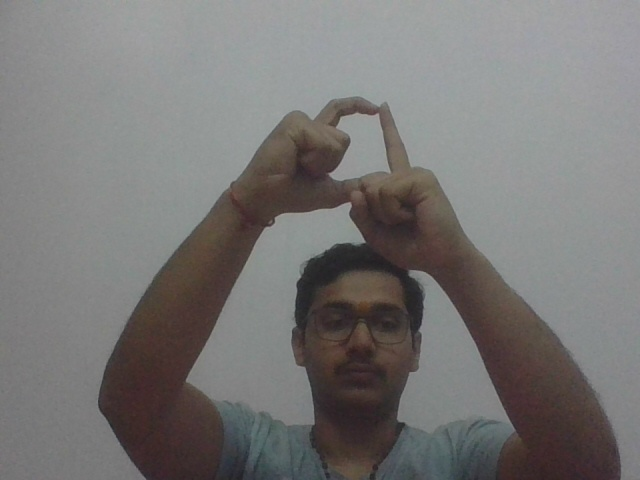D: (255, 93, 460, 265)
